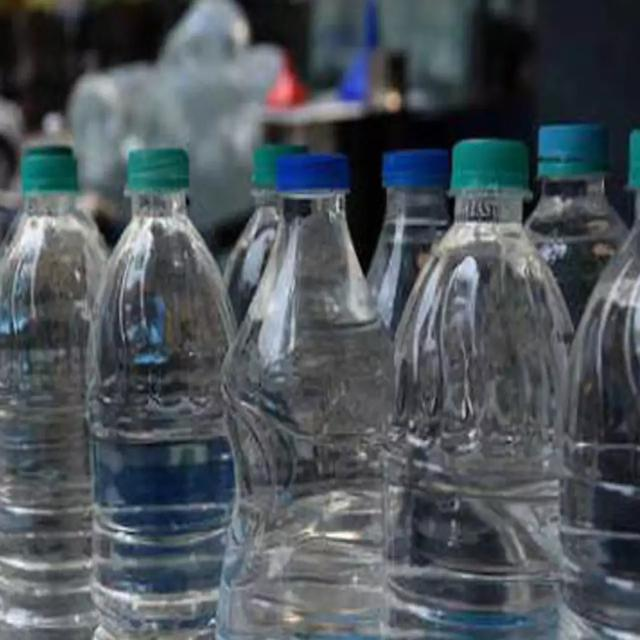plastic: (376, 137, 562, 640), (225, 143, 386, 640), (77, 148, 232, 640), (527, 120, 640, 640), (0, 142, 105, 640)
